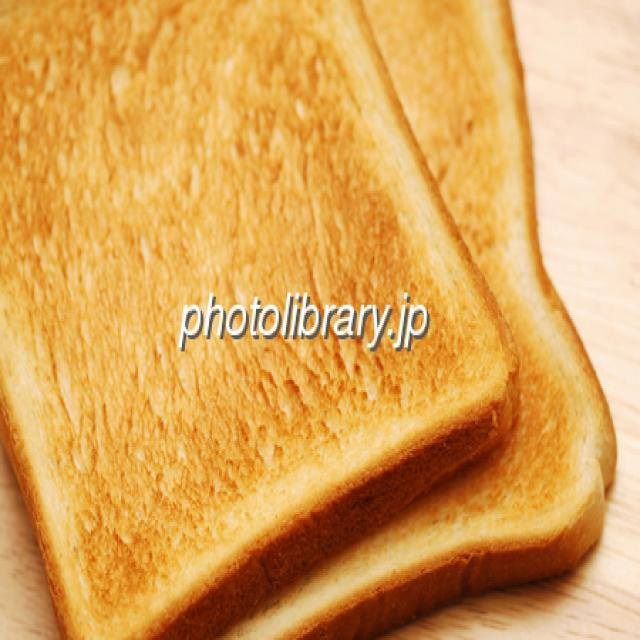面包点心: (0, 0, 624, 640)
